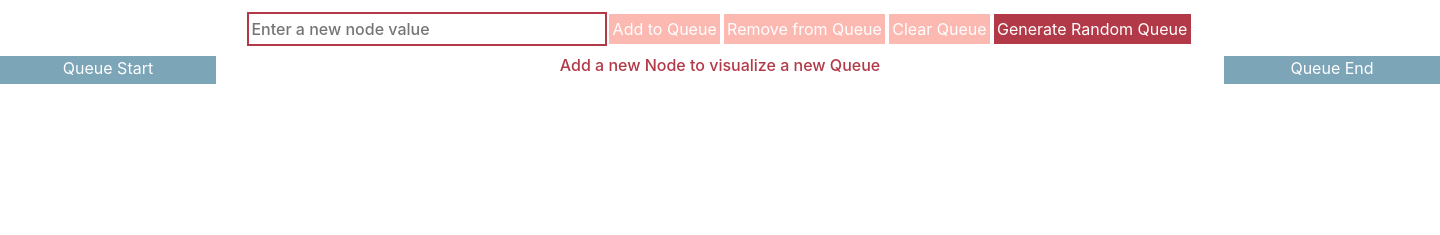
Test: QueueVisualizer tests › QueueVisualizer generateRandomQueue correctly generates a queue
Expected: the heading "Add a new Node to visualize a new Queue" is shown, [560,56,880,76]
Click the button "Generate Random Queue". click: (1092, 29)
box: [994,14,1190,44]
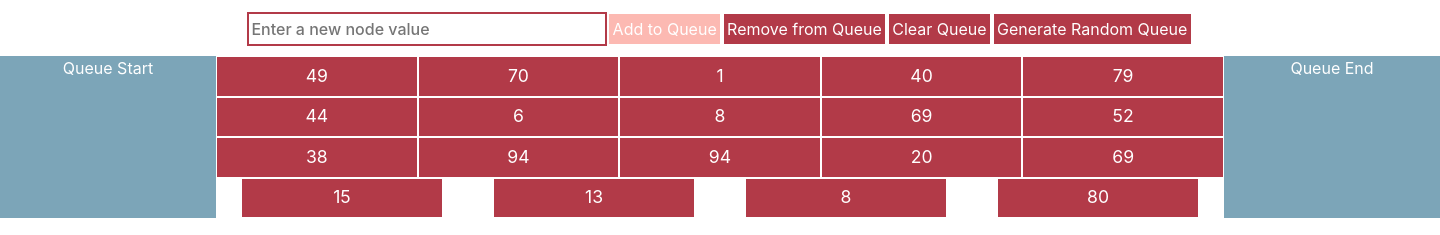
Result: the heading "Add a new Node to visualize a new Queue" is gone
